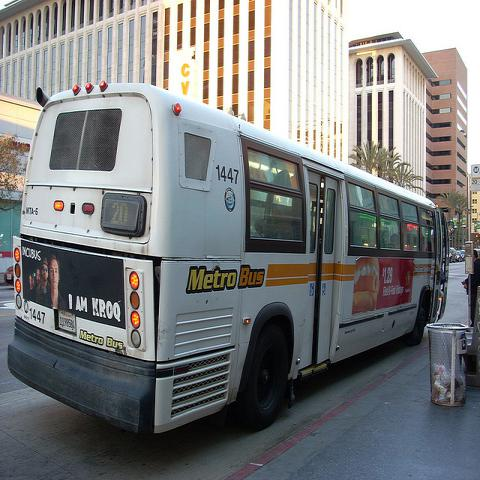bus: (8, 84, 452, 439)
car: (443, 247, 456, 263), (456, 251, 463, 262), (459, 250, 466, 260)
